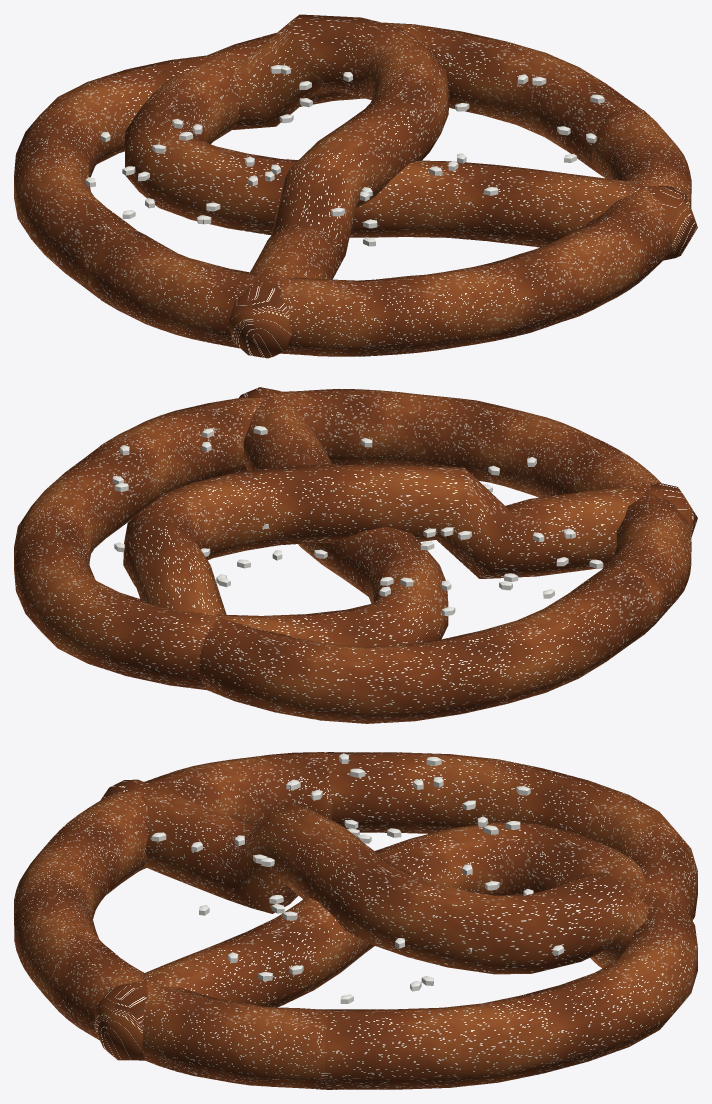
File: bakery_pretzel_salted.glb
The picture shows the model from 3 angles, top to bottom: view 1: azimuth 30°, elevation 25°; view 2: azimuth 150°, elevation 25°; view 3: azimuth 270°, elevation 25°; orthographic projection. The views are drawn at different scales.
Visible parts, largest first — view 1: bakery_pretzel_salted; view 2: bakery_pretzel_salted; view 3: bakery_pretzel_salted.
Part boxes in pixels (x1,y1,x2,y2): bakery_pretzel_salted: (14, 14, 697, 358); bakery_pretzel_salted: (14, 387, 697, 723); bakery_pretzel_salted: (14, 752, 697, 1089).
Bounding box in the file's own units: 0.176 × 0.0337 × 0.1752.
Materials: 2 (1 with a texture image).
